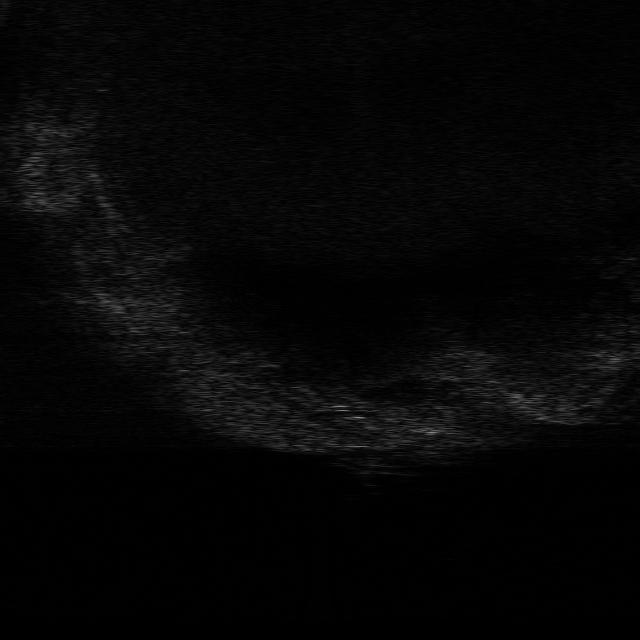plane: (332, 453, 412, 479)
